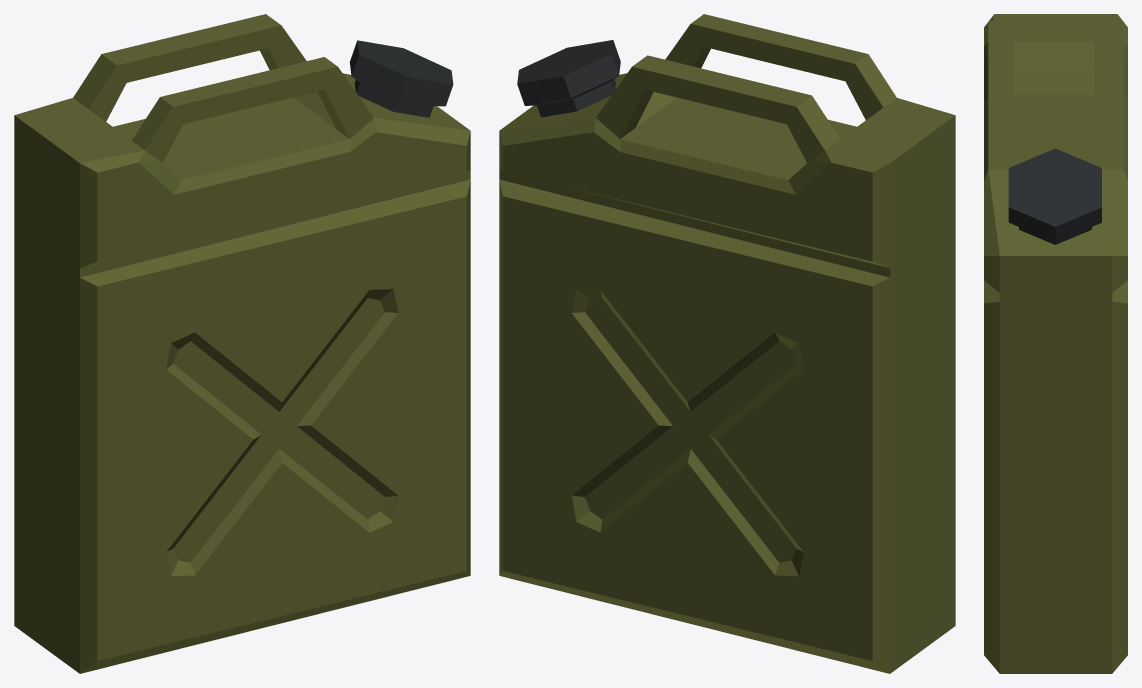
The model's file is SM_Prop_GasCan_01.glb.
3 renders of one model, left to right at view 1: azimuth 30°, elevation 25°; view 2: azimuth 150°, elevation 25°; view 3: azimuth 270°, elevation 25°, orthographic. The views are drawn at different scales.
Visible parts, largest first — view 1: SM_Prop_GasCan_01; view 2: SM_Prop_GasCan_01; view 3: SM_Prop_GasCan_01.
Part boxes in pixels (x1,y1,x2,y2): SM_Prop_GasCan_01: (14,14,470,673); SM_Prop_GasCan_01: (499,14,955,673); SM_Prop_GasCan_01: (984,14,1127,673).
Bounding box in the file's own units: 0.4867 × 0.6299 × 0.1597.
1 material, 1 textured.
